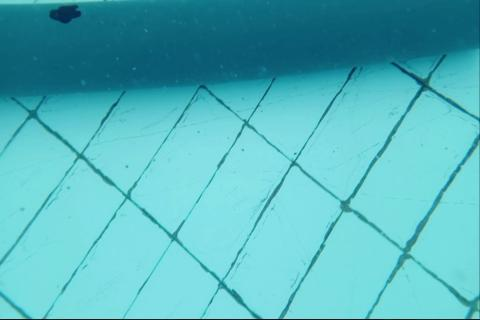kebocoran: (48, 4, 81, 25)
